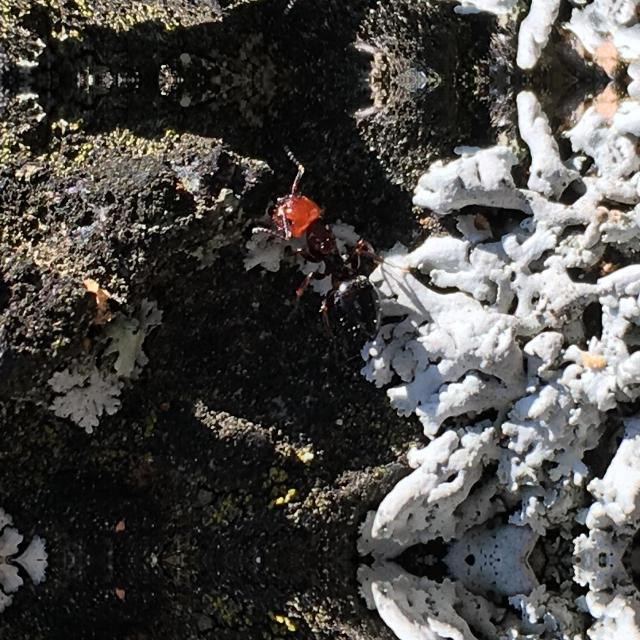Crematogaster: (260, 177, 396, 359)
